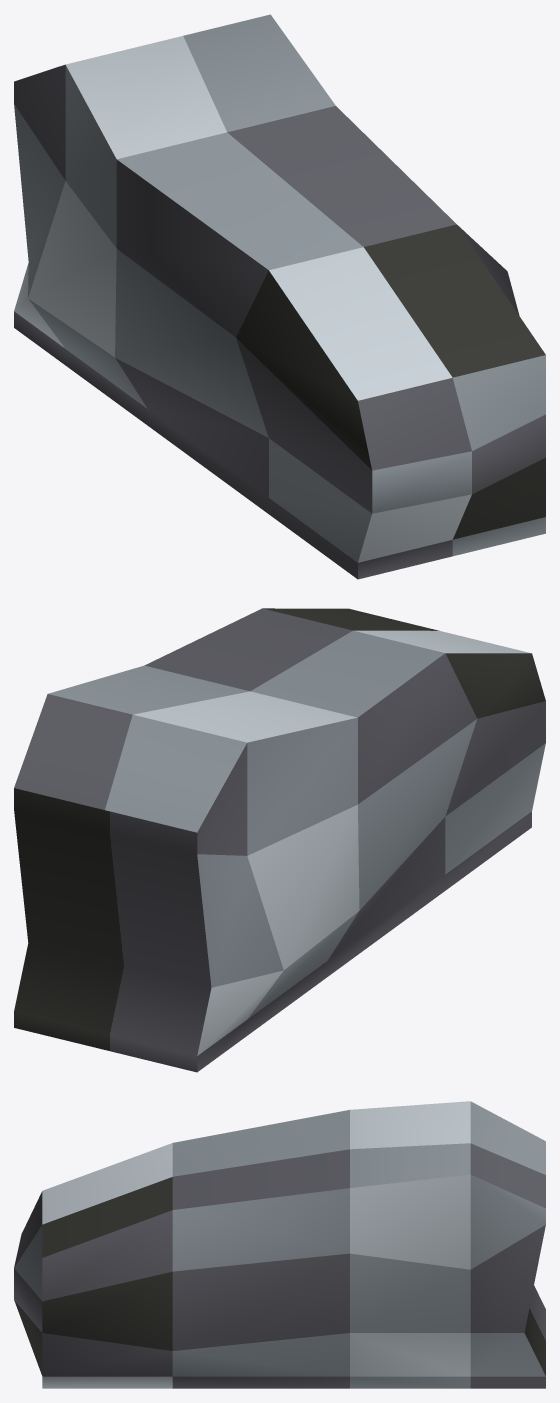
The model's file is ruina3contextura.fbx.
3 views of the same model, one above another, from view 1: azimuth 30°, elevation 25°; view 2: azimuth 150°, elevation 25°; view 3: azimuth 270°, elevation 25° (orthographic). The views are drawn at different scales.
Parts seen in each view (by area): view 1: pCube1; view 2: pCube1; view 3: pCube1.
Part boxes in pixels (<box>): pCube1: <box>14,14,545,579</box>; pCube1: <box>14,608,545,1072</box>; pCube1: <box>14,1101,545,1388</box>.
Size of the model in its own units: 3.86 by 4.02 by 8.78.
Materials: 1 (1 with a texture image).
